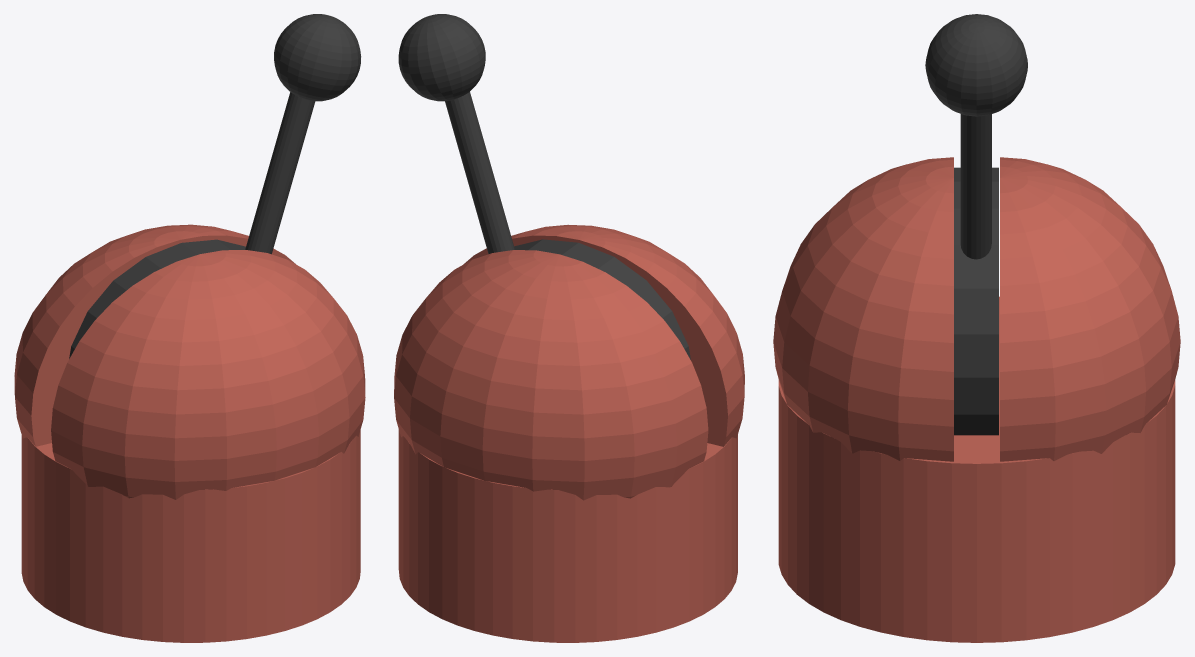
File: Lego Lever.fbx
The picture shows the model from 3 angles, left to right: view 1: azimuth 30°, elevation 25°; view 2: azimuth 150°, elevation 25°; view 3: azimuth 270°, elevation 25°; orthographic projection. The views are drawn at different scales.
Visible parts, largest first — view 1: pSphere25; view 2: pSphere25; view 3: pSphere25.
Part boxes in pixels (<box>): pSphere25: <box>14,14,365,642</box>; pSphere25: <box>394,14,744,642</box>; pSphere25: <box>773,14,1180,642</box>.
Bounding box in the file's own units: 2.14 × 3.4 × 2.05.
